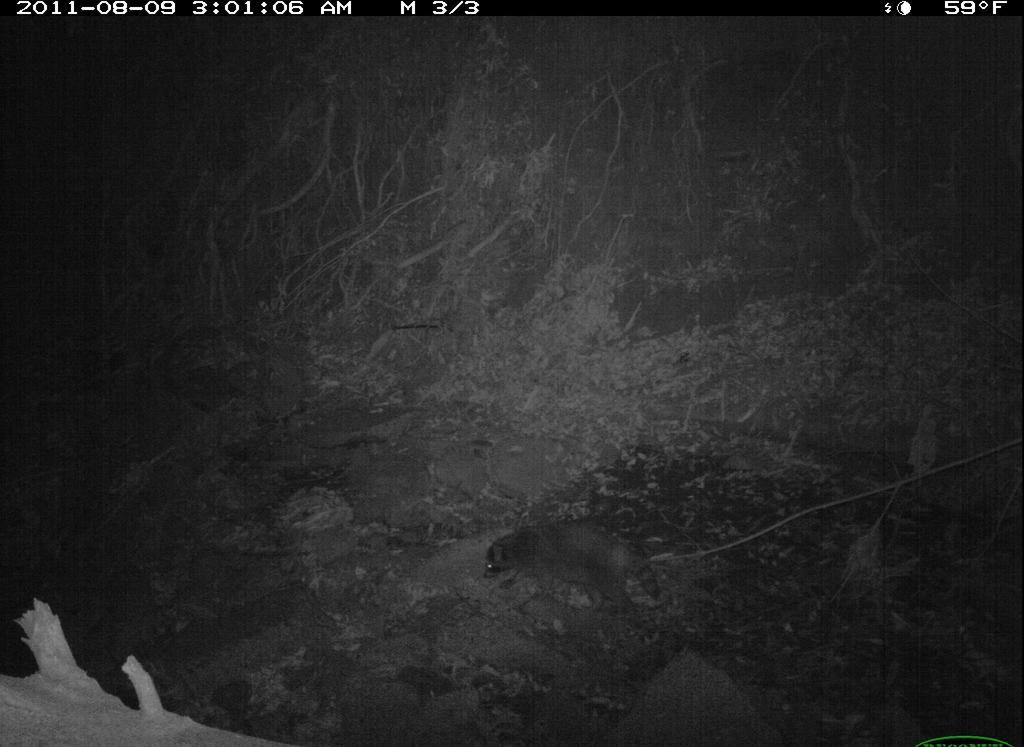raccoon: (475, 516, 671, 610)
